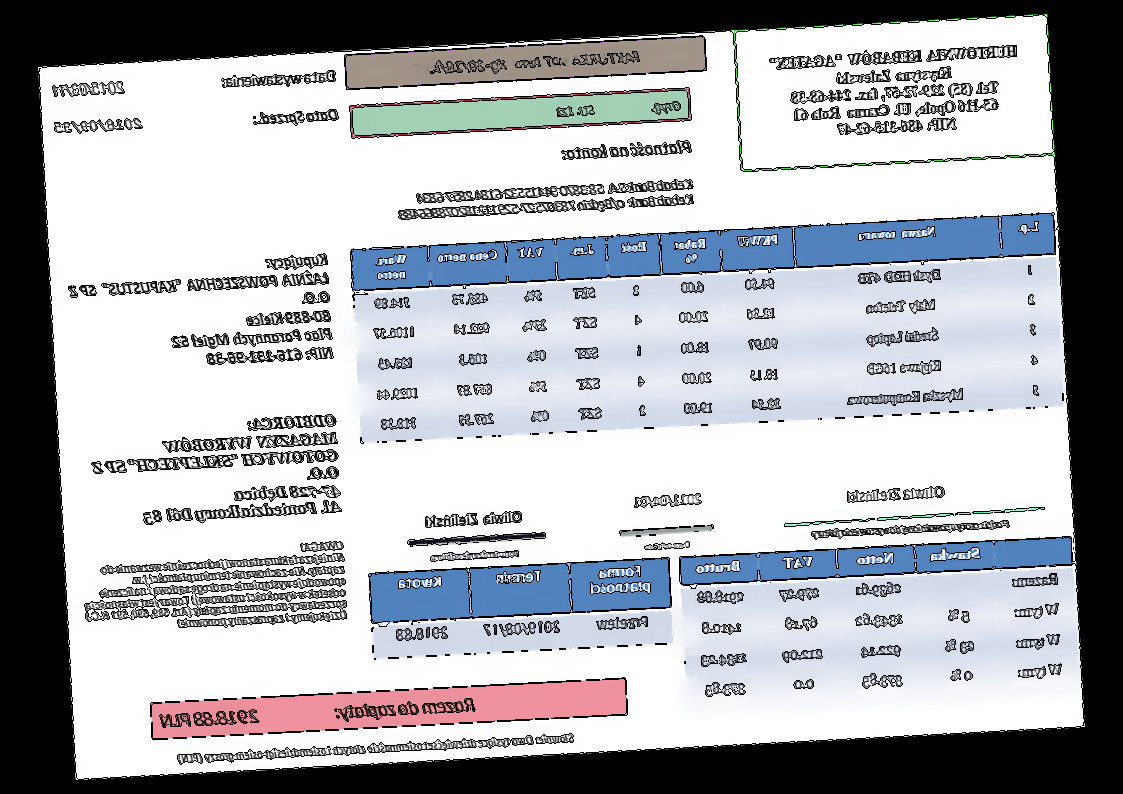Table: (349, 212, 1066, 445), (678, 536, 1081, 709), (368, 555, 675, 661)
TextBox: (66, 250, 337, 376), (88, 411, 345, 531), (765, 37, 1026, 145), (79, 536, 349, 636), (175, 727, 578, 768), (395, 175, 697, 223), (158, 693, 479, 732), (410, 47, 646, 78), (808, 516, 1012, 543), (560, 138, 695, 164), (220, 65, 338, 94), (552, 96, 685, 121), (842, 481, 949, 506), (52, 114, 146, 138), (423, 508, 526, 529), (250, 105, 340, 128), (428, 546, 523, 564), (50, 78, 127, 99), (632, 491, 704, 511), (643, 539, 693, 551)
